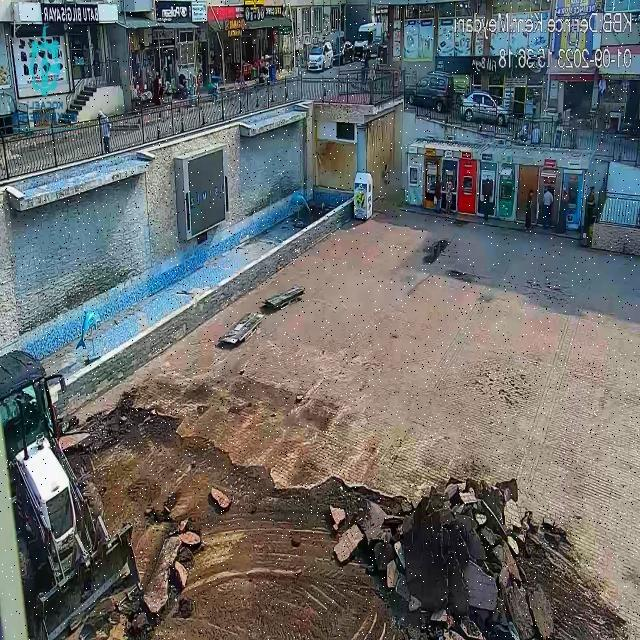Car: (404, 72, 456, 115), (457, 90, 509, 126), (306, 38, 335, 72)
Truck: (0, 349, 139, 640)
Van: (352, 21, 386, 61)
